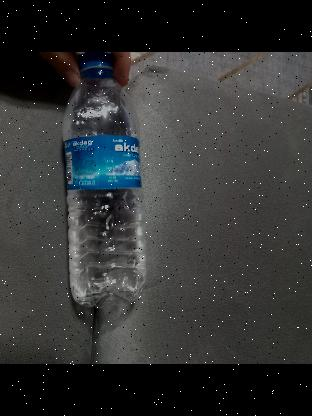Plastic Bottle: (55, 52, 147, 308)
